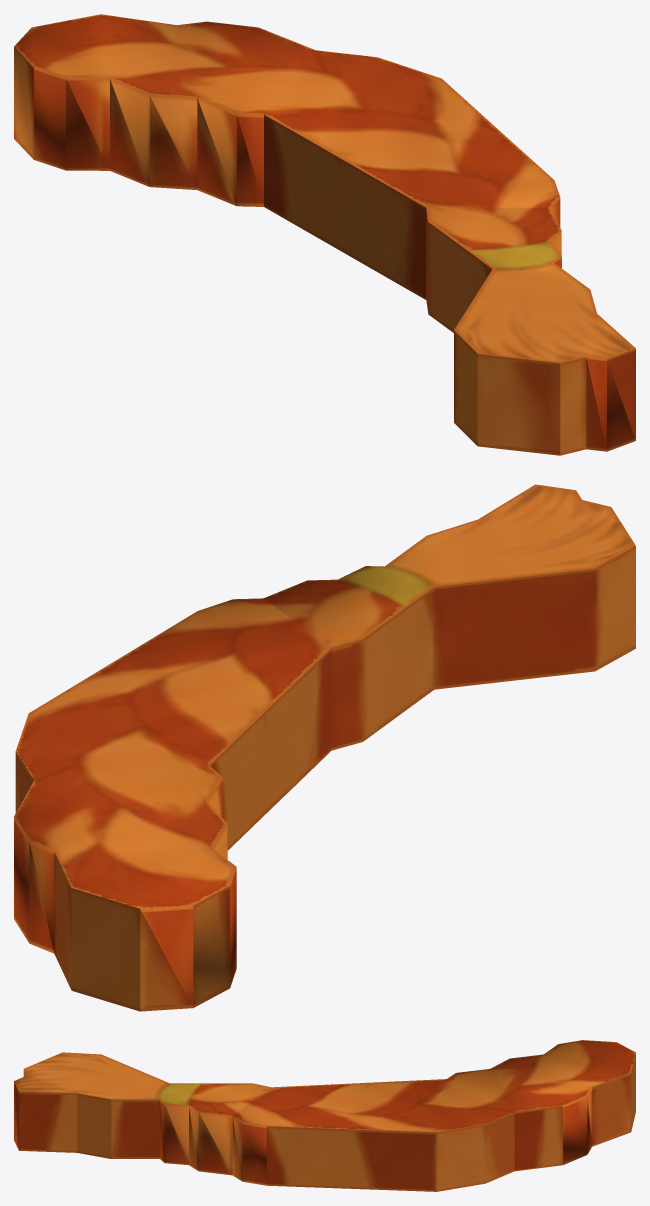
Rendered from item_mm9_10240.glb.
The picture shows the model from 3 angles, top to bottom: view 1: azimuth 30°, elevation 25°; view 2: azimuth 150°, elevation 25°; view 3: azimuth 270°, elevation 25°; orthographic projection. The views are drawn at different scales.
Visible parts, largest first — view 1: d10240; view 2: d10240; view 3: d10240.
Boxes of the visible parts, x1,y1,x2,y2 form: d10240: (14,14,635,455); d10240: (14,484,635,1011); d10240: (14,1040,635,1191).
Bounding box in the file's own units: 20.25 × 6.07 × 57.6.
1 material, 1 textured.
